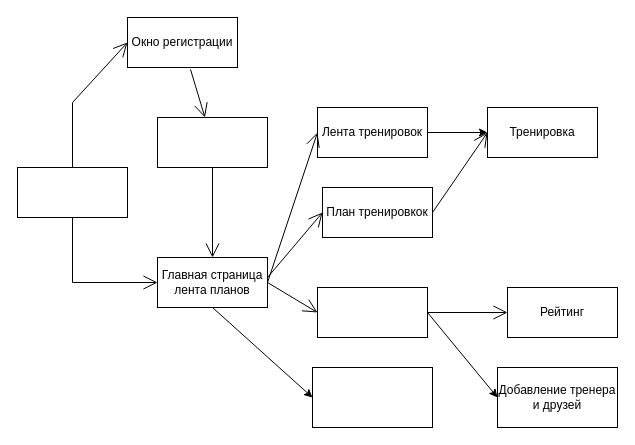
This 635x445 diagram has some shape labels left out. The centre of each missing label's shape, as x and y in pixels:
"Окно авторизации" goes at (x=72, y=192).
"Профиль" goes at (x=372, y=312).
"Тип пользователя" goes at (x=212, y=142).
"Уведомления" goes at (x=372, y=397).
